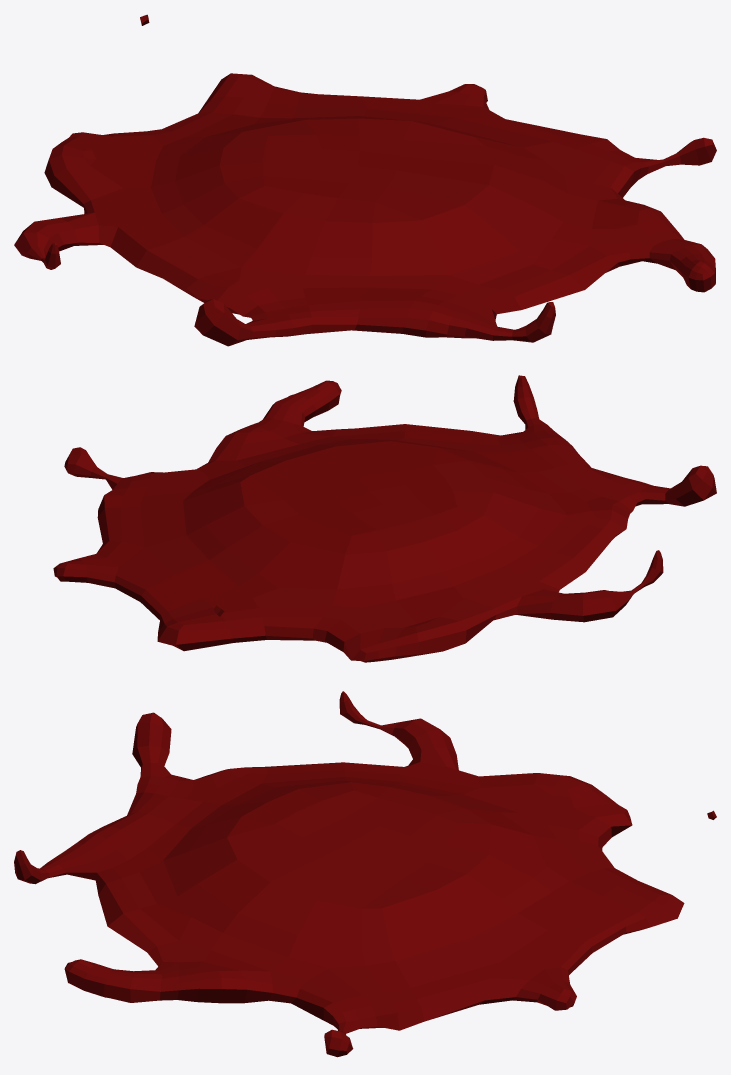
The model's file is splash_rouge.FBX.
3 renders of one model, top to bottom at view 1: azimuth 30°, elevation 25°; view 2: azimuth 150°, elevation 25°; view 3: azimuth 270°, elevation 25°, orthographic. The views are drawn at different scales.
Parts seen in each view (by area): view 1: Fluid Domain.003; view 2: Fluid Domain.003; view 3: Fluid Domain.003.
Boxes of the visible parts, x1,y1,x2,y2 form: Fluid Domain.003: [14, 14, 716, 346]; Fluid Domain.003: [53, 375, 716, 662]; Fluid Domain.003: [14, 691, 716, 1057].
Bounding box in the file's own units: 209 × 205 × 27.45.
